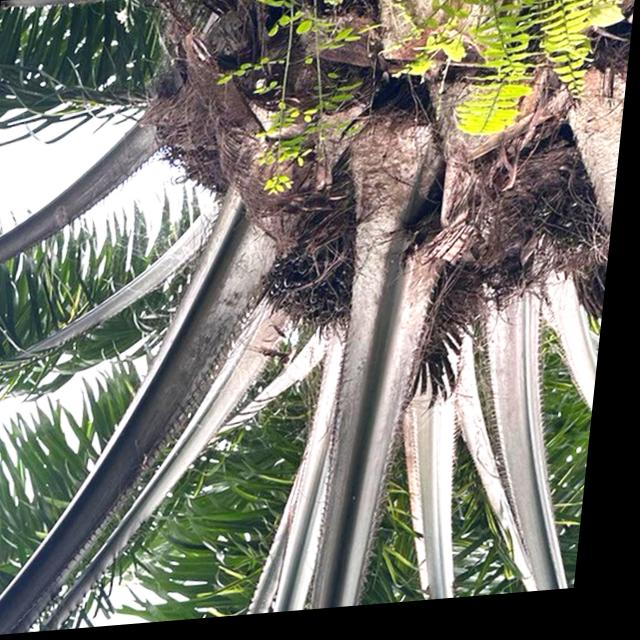unripe: (246, 207, 380, 355)
